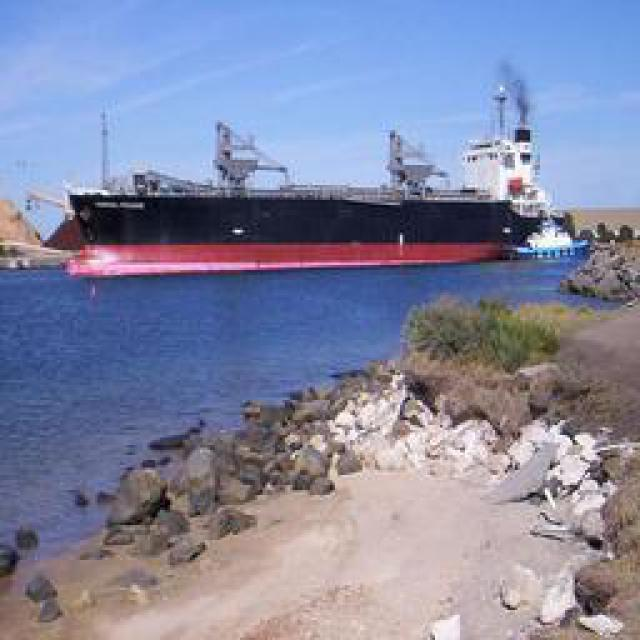Ship: (45, 101, 590, 274)
